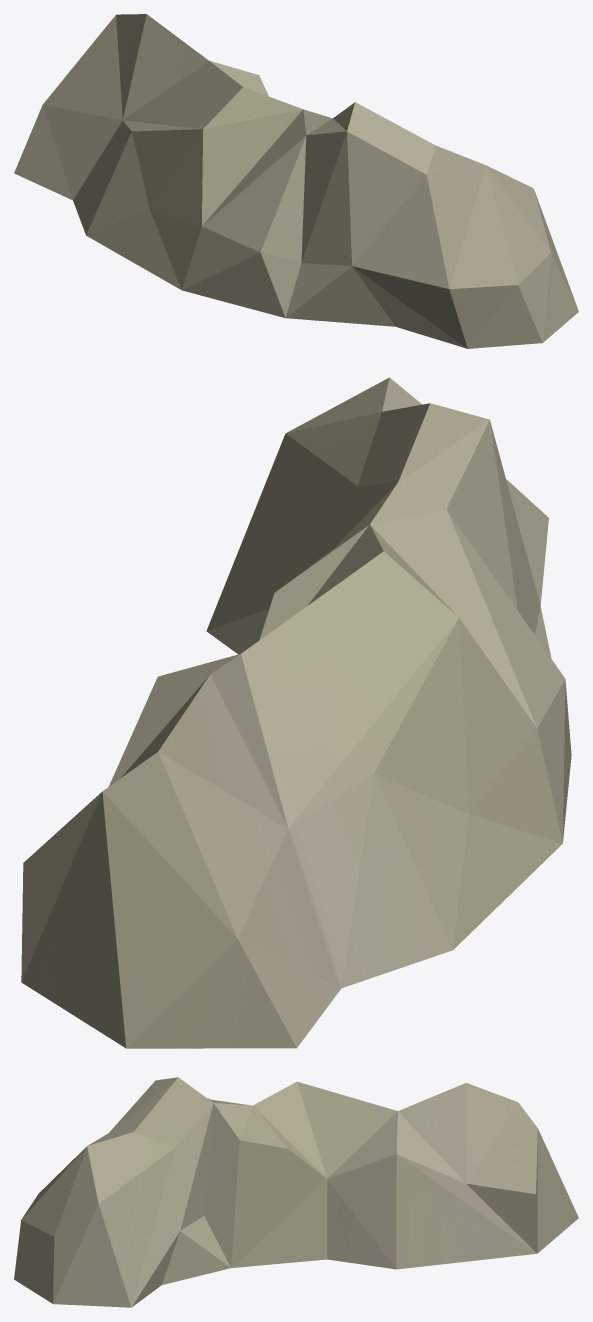
Rendered from mountain001.gltf.
3 renders of one model, top to bottom at view 1: azimuth 30°, elevation 25°; view 2: azimuth 150°, elevation 25°; view 3: azimuth 270°, elevation 25°, orthographic. The views are drawn at different scales.
Parts seen in each view (by area): view 1: node_mountain001_-158534; view 2: node_mountain001_-158534; view 3: node_mountain001_-158534.
Part boxes in pixels (box(x1,y1,x2,y2)): node_mountain001_-158534: box(14, 14, 578, 348); node_mountain001_-158534: box(21, 377, 571, 1048); node_mountain001_-158534: box(14, 1077, 578, 1307).
Bounding box in the file's own units: 11.01 × 6.76 × 21.05.
Materials: 1 (1 with a texture image).
